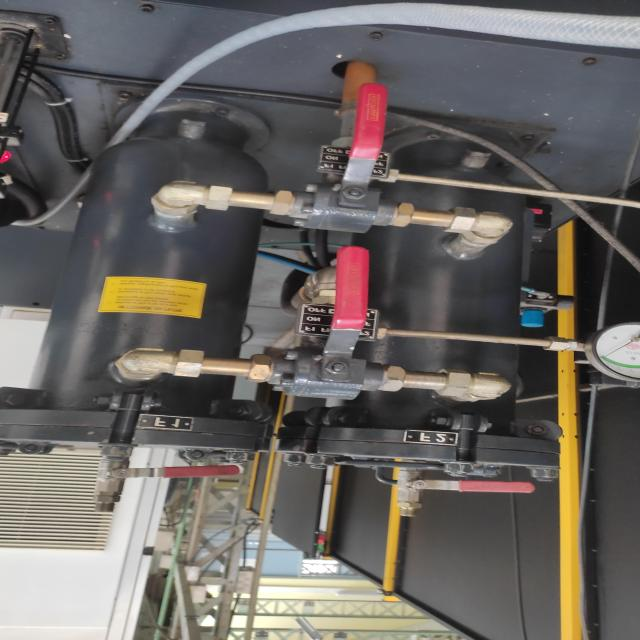closed_valve: (275, 244, 400, 404), (290, 80, 402, 236), (90, 457, 261, 500), (390, 466, 546, 511)
